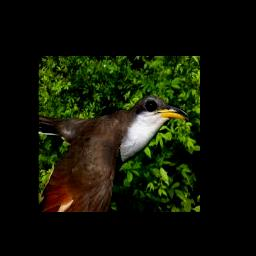Cuckoo: (38, 95, 189, 212)
